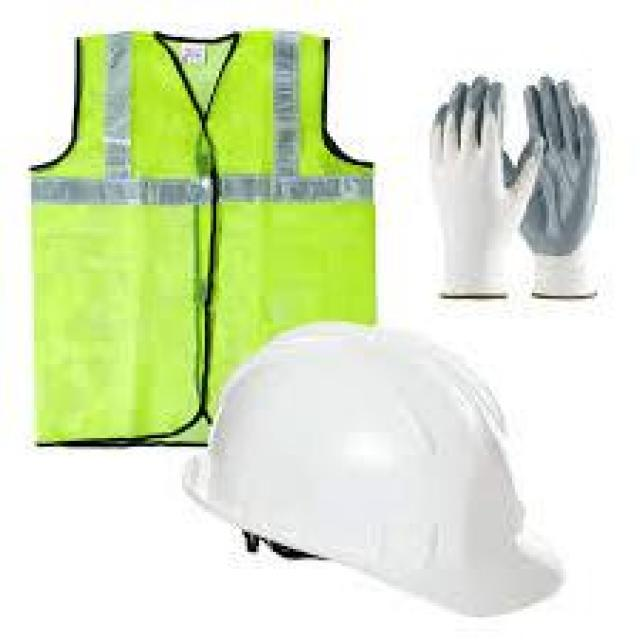Reflective-Jacket: (1, 12, 430, 470)
Safety-Helmet: (183, 313, 570, 618)
